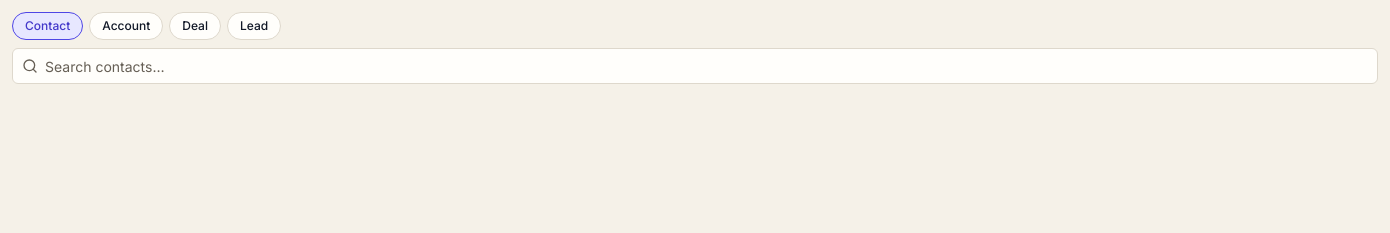
RecordPicker › LEADS are offered, and switching type searches that type
Step 1. Click the radio button labelled "Lead" → [254, 26], box x1=227 y1=12 x2=281 y2=40
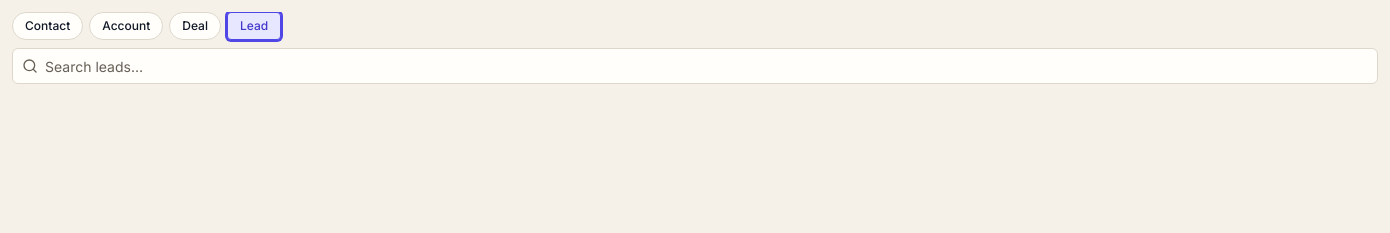
Step 2. Click the dropdown named "Find record" → [695, 66], box x1=12 y1=48 x2=1378 y2=84
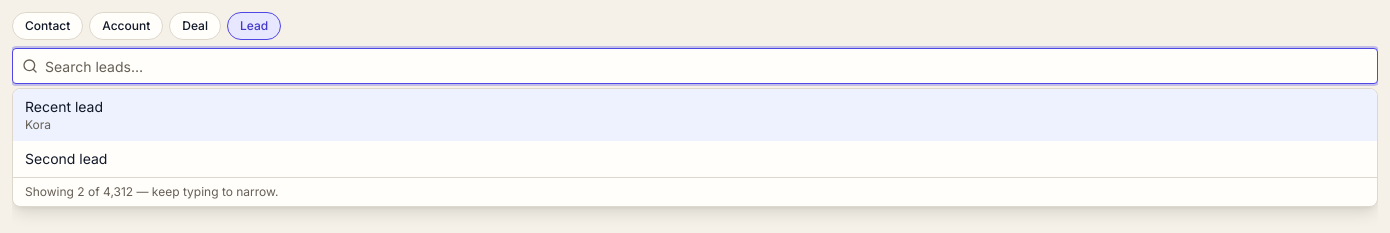
Check: the option "Recent lead Kora" is shown, box x1=13 y1=89 x2=1377 y2=141
